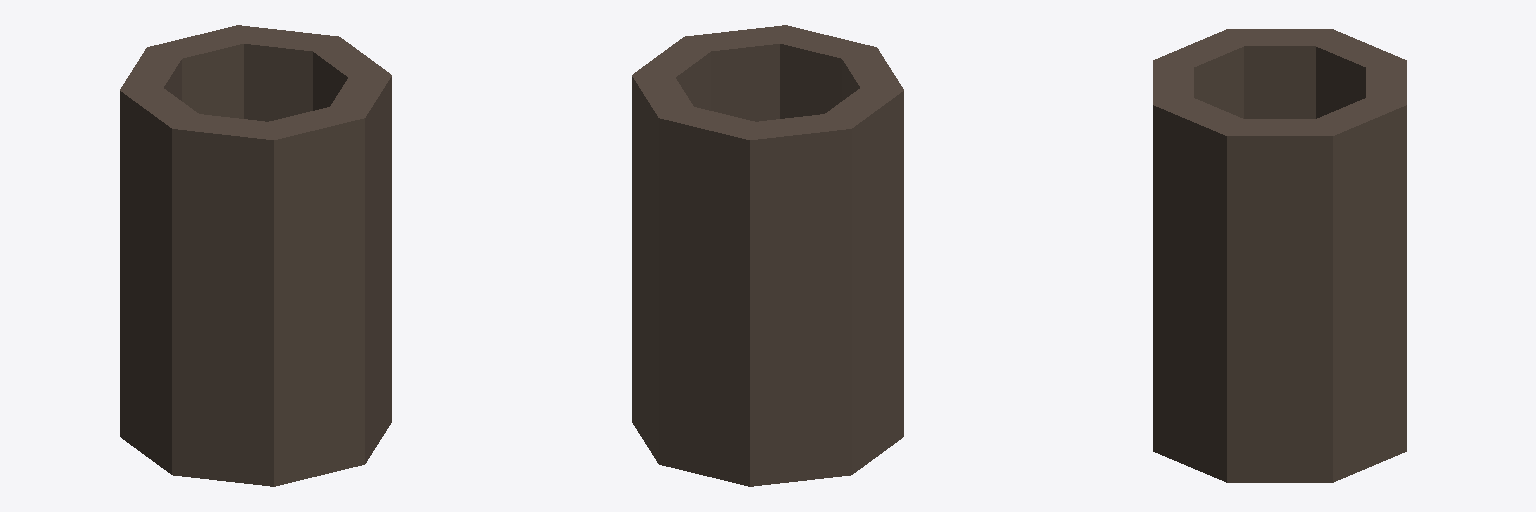
File: Prop_Well_Inside.obj
3 views of the same model, side by side, from view 1: azimuth 30°, elevation 25°; view 2: azimuth 150°, elevation 25°; view 3: azimuth 270°, elevation 25° (orthographic).
Visible parts, largest first — view 1: object1; view 2: object1; view 3: object1.
Boxes of the visible parts, <box> form: object1: <box>120,25,391,486</box>; object1: <box>632,25,903,486</box>; object1: <box>1153,29,1406,482</box>.
Size of the model in its own units: 0.6649 by 1 by 0.6649.